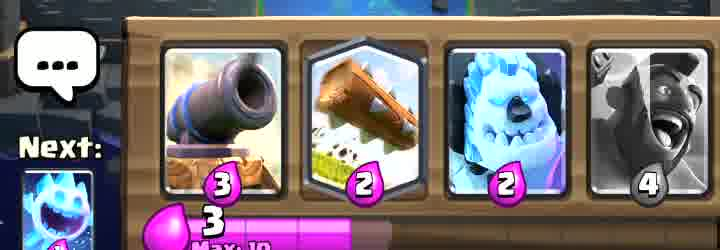cannon: (171, 50, 283, 196)
hog-rider: (586, 62, 680, 202)
ice-golem: (447, 52, 561, 198)
ice-spirit: (24, 171, 94, 250)
log: (310, 43, 423, 193)
